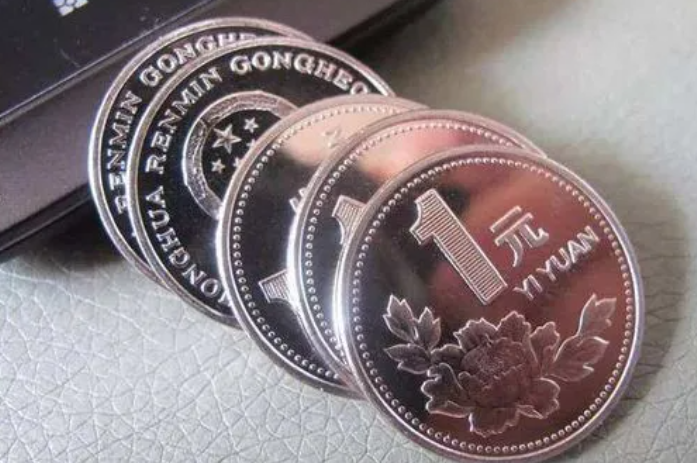coin: (334, 144, 655, 463), (128, 35, 418, 331), (302, 107, 580, 400), (218, 92, 480, 401), (87, 15, 322, 292)
